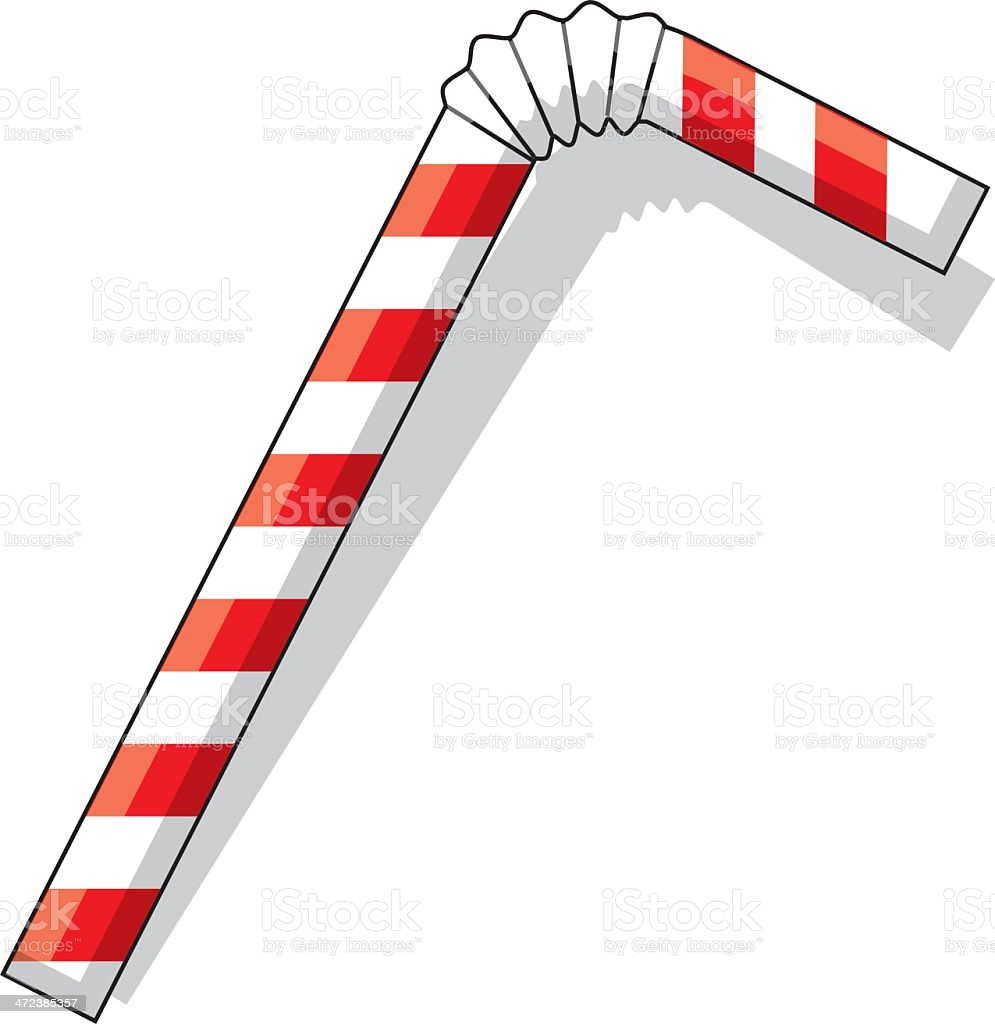Drinking Straw: (1, 1, 995, 1024)
